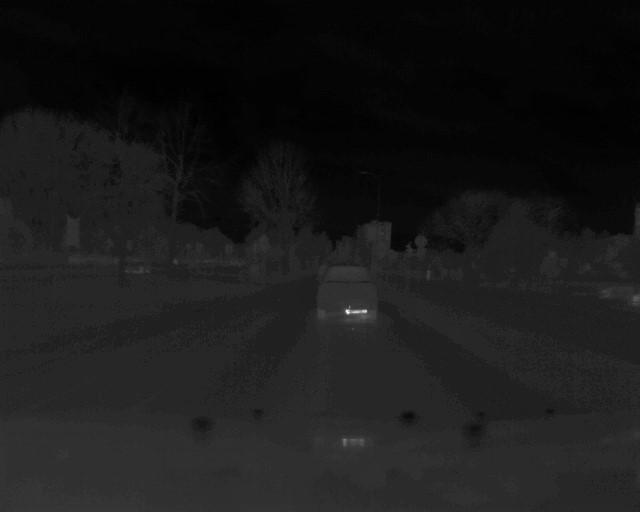car: (313, 264, 381, 323)
